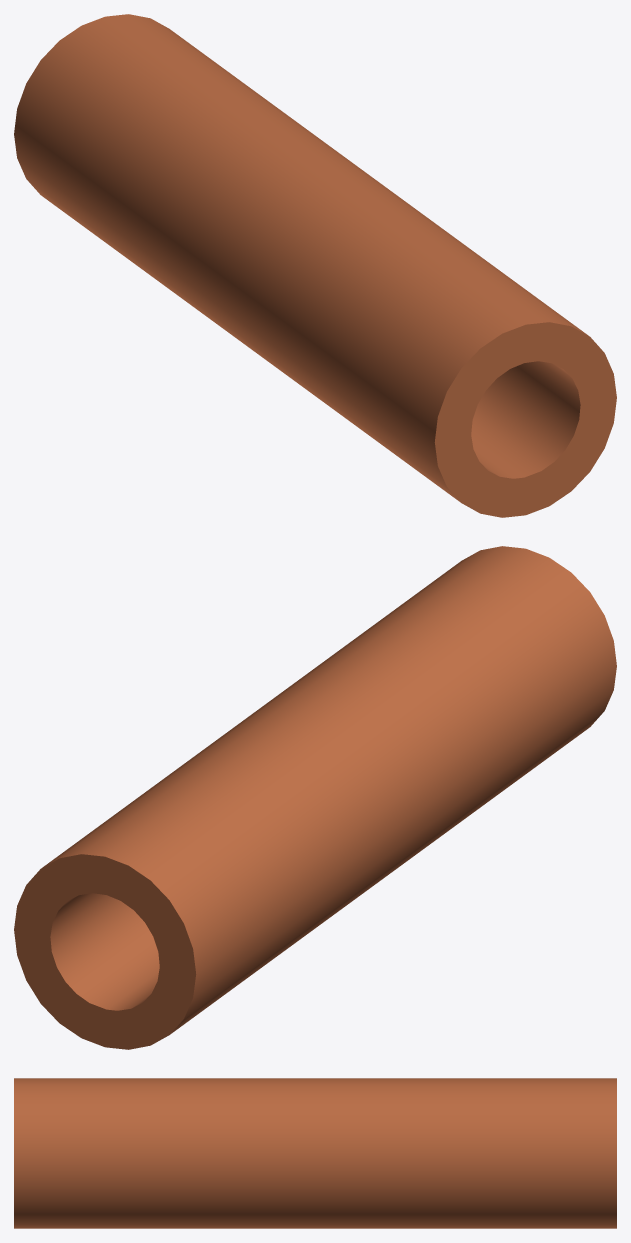
File: cannon.dae
The picture shows the model from 3 angles, top to bottom: view 1: azimuth 30°, elevation 25°; view 2: azimuth 150°, elevation 25°; view 3: azimuth 270°, elevation 25°; orthographic projection. The views are drawn at different scales.
Visible parts, largest first — view 1: Cylinder; view 2: Cylinder; view 3: Cylinder.
Part boxes in pixels (<box>): Cylinder: <box>14,14,616,517</box>; Cylinder: <box>14,546,616,1049</box>; Cylinder: <box>14,1078,616,1228</box>.
Size of the model in its own units: 1 by 1 by 4.
